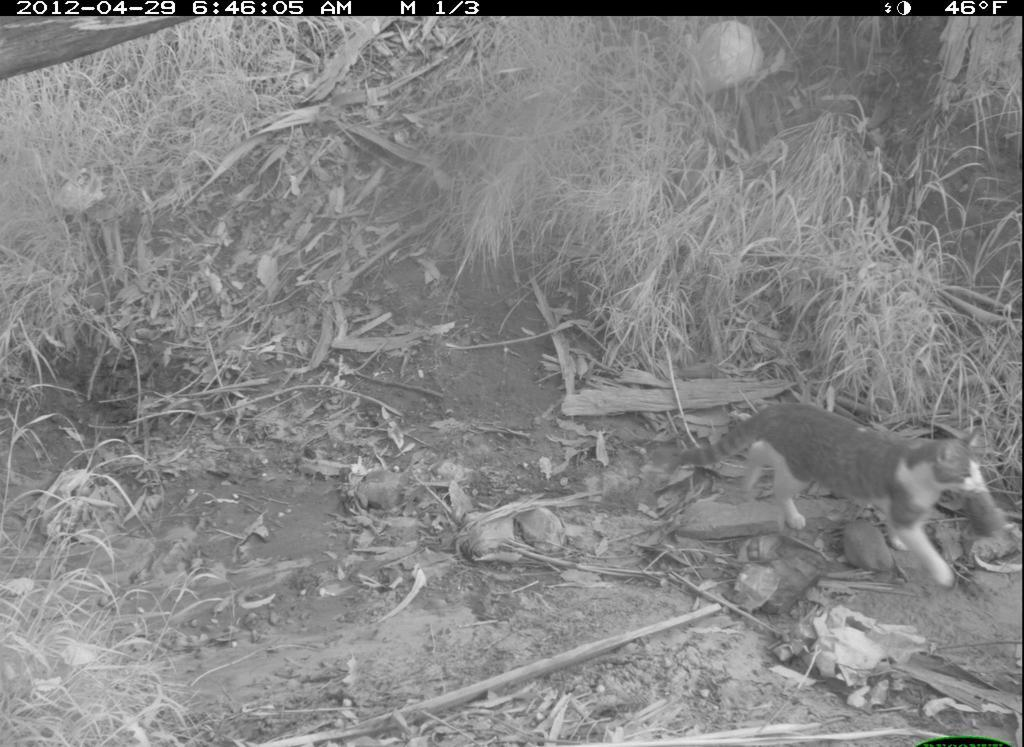cat: (680, 396, 995, 598)
